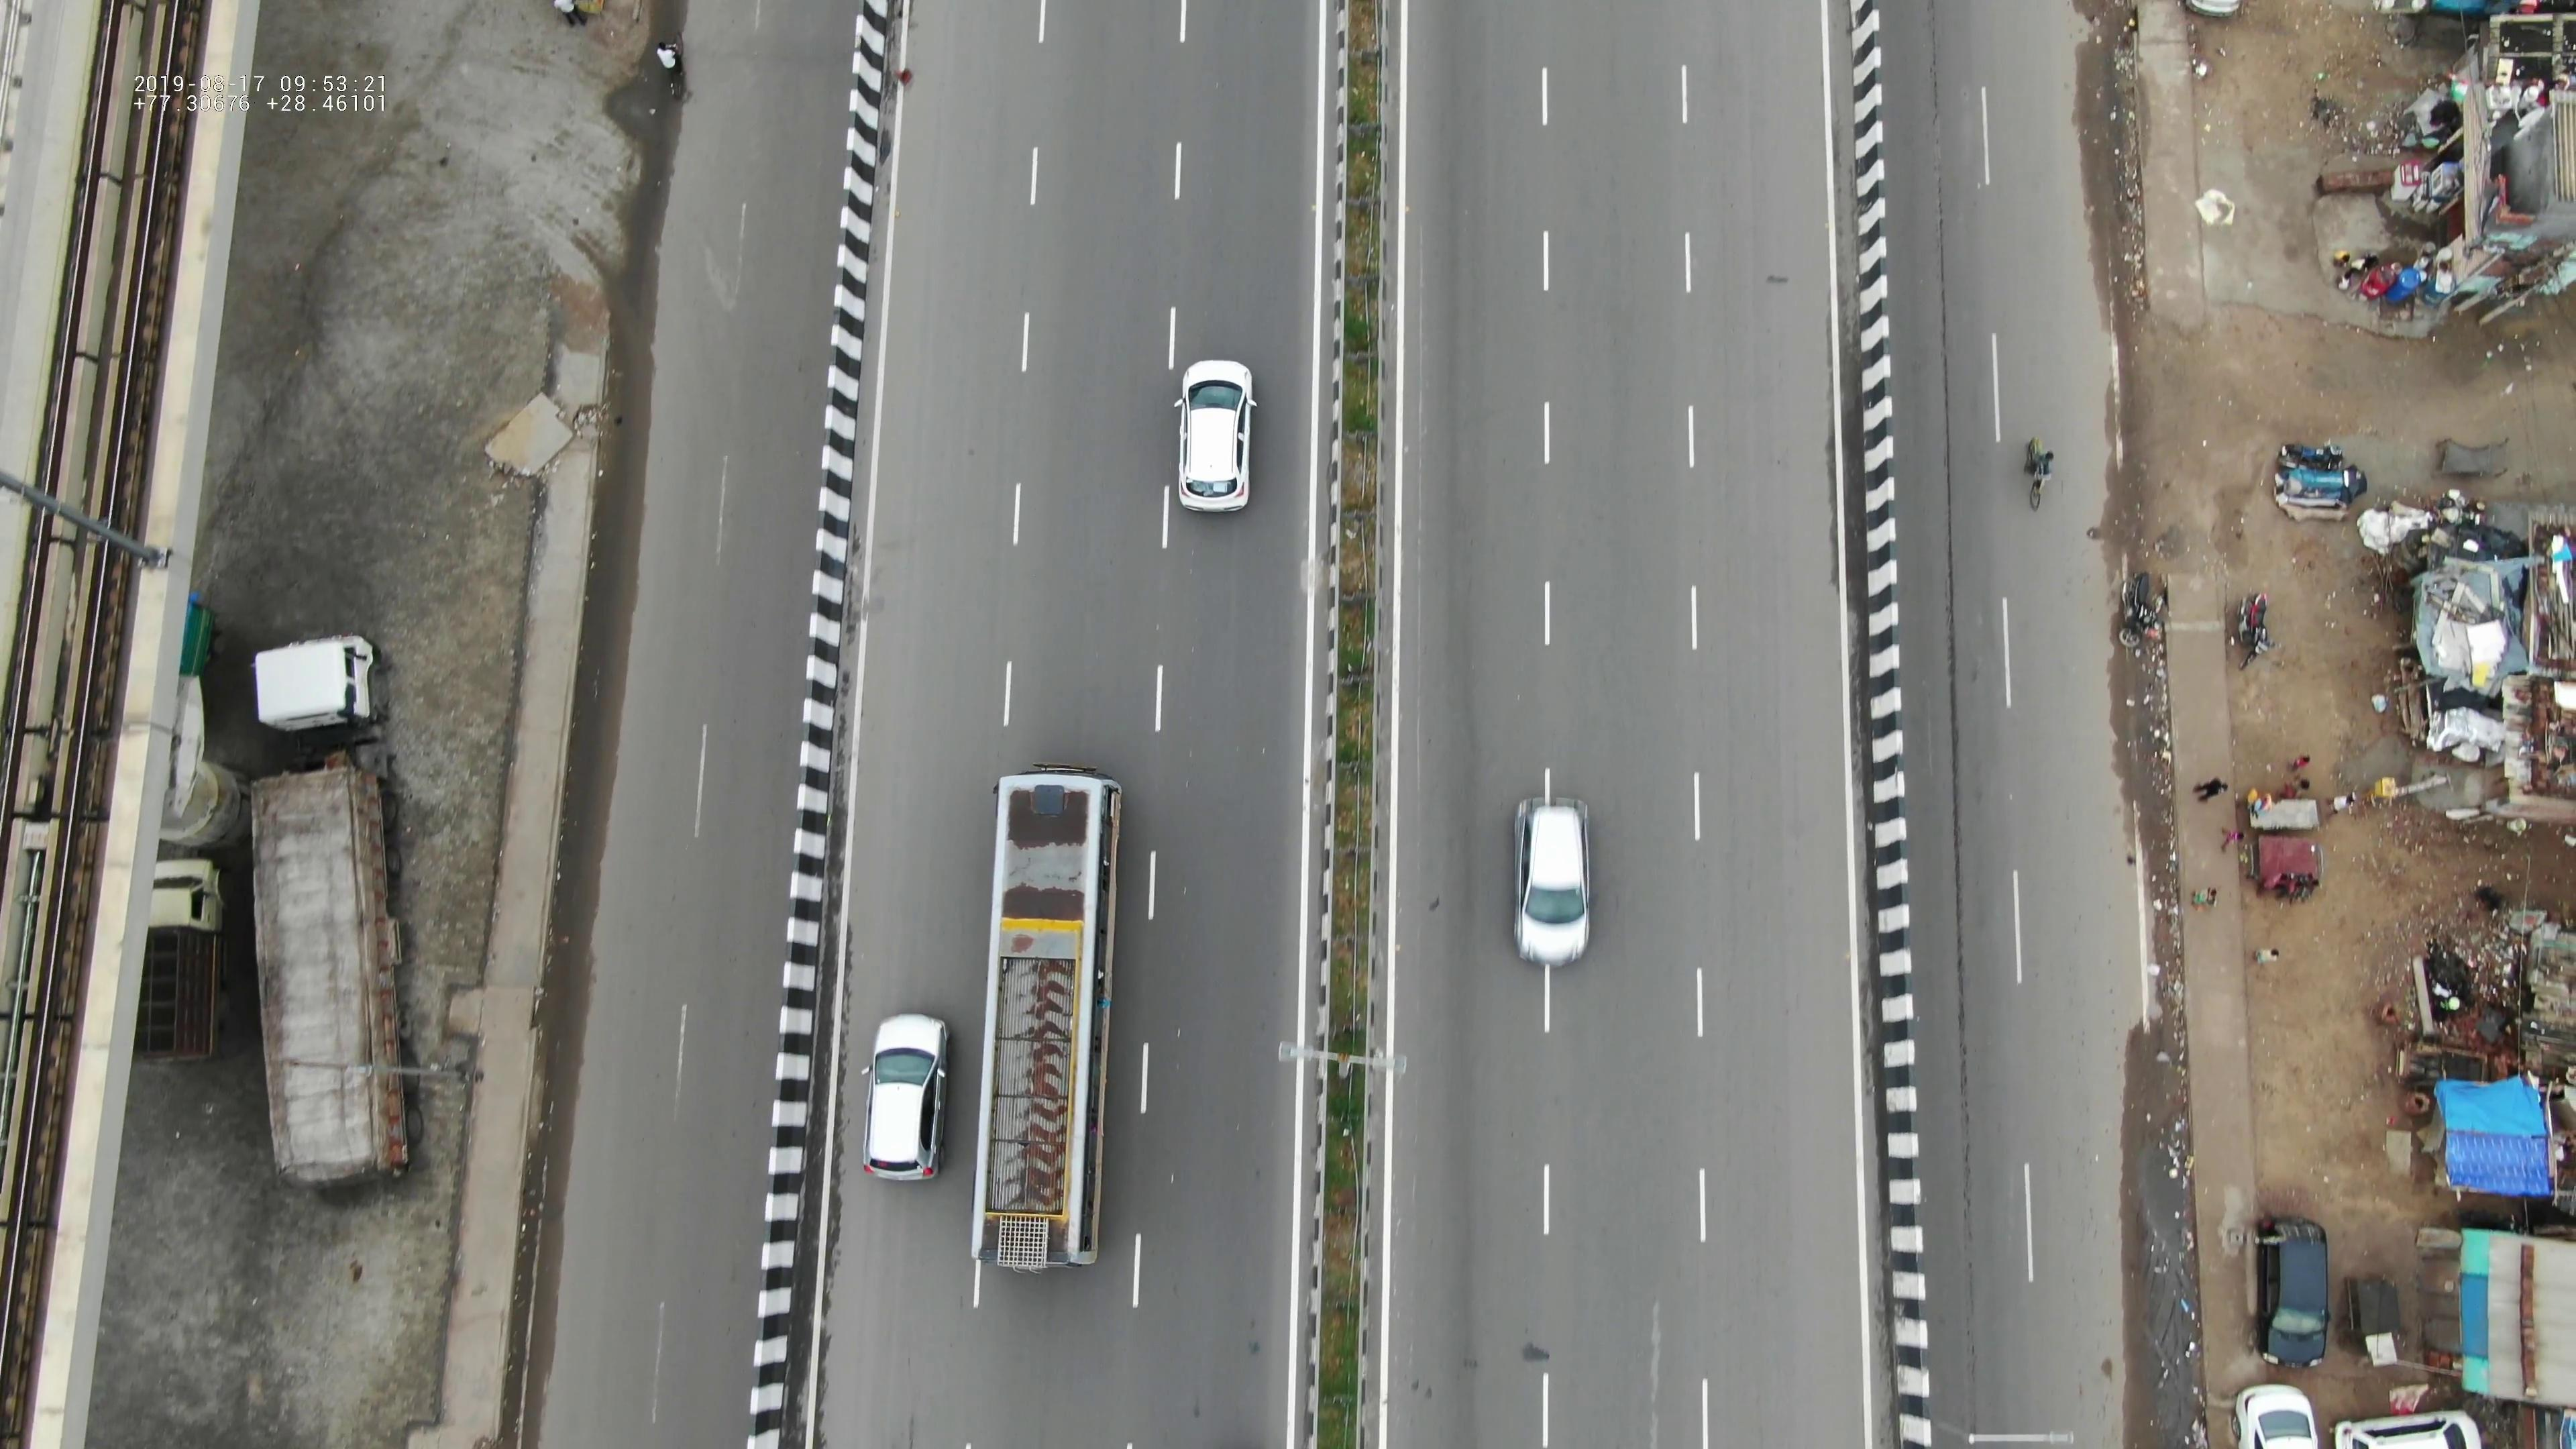Muddy_road: (2112, 1035, 2201, 1440), (2058, 41, 2158, 331), (2105, 669, 2180, 978)
